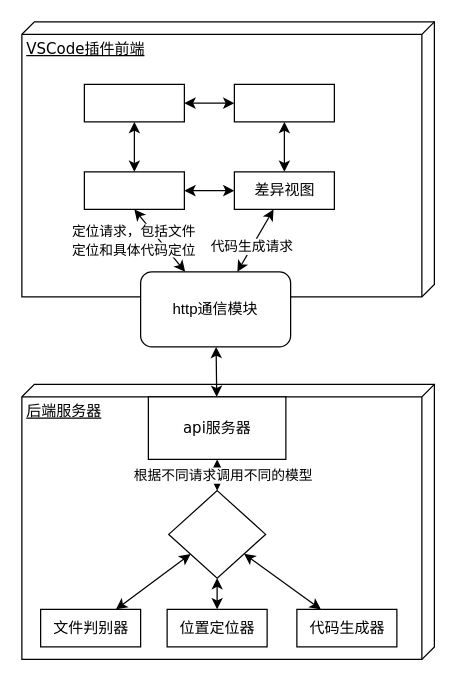
Some shapes in this 456 by 681 pixel diagram are drawn without their labels. The shapes that lost their labels are listed below. From the top down, each one's centre as x and y in pixels, then its label:
[133,102]: 用户界面
[283,102]: 编辑检测
[133,190]: 位置显示
[217,533]: 模型管理器
